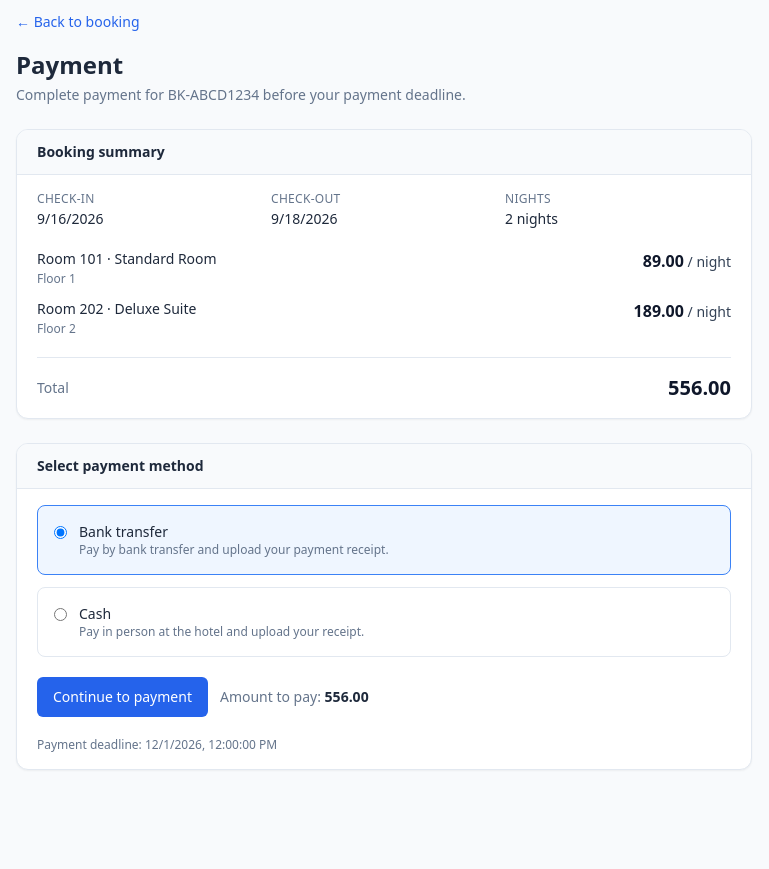
Scenario: PaymentCreate page › surfaces the server message when a payment already exists (409)
The width and height of the screenshot is (769, 869).
What coordinates should you click on to do the following:
click the button "Continue to payment"
I would click on:
 (122, 697)
Its box is top-left (37, 677), bottom-right (208, 717).
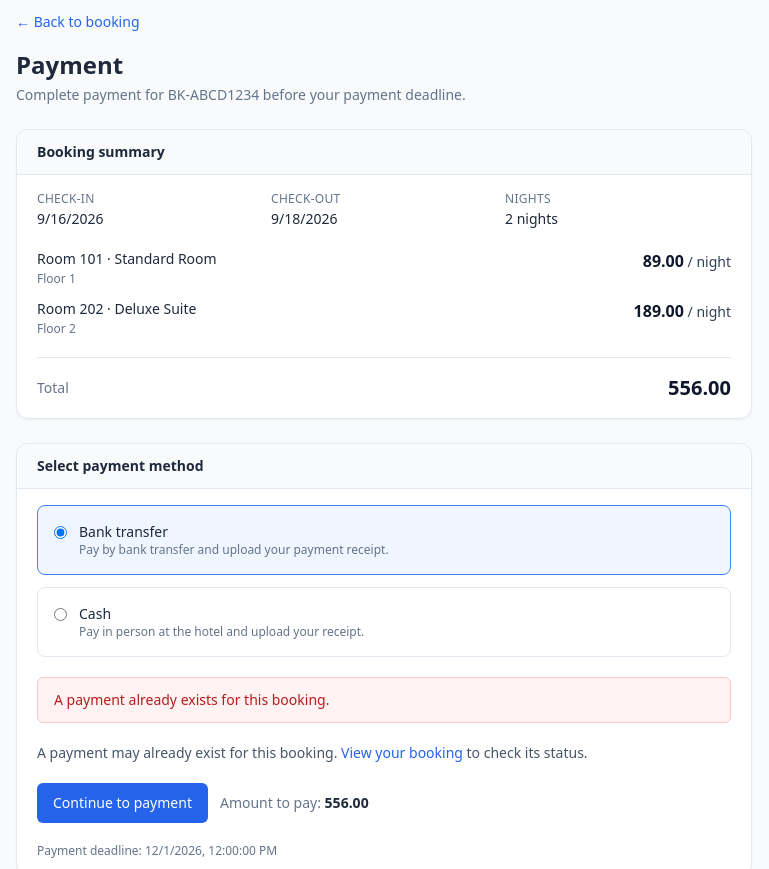
Check: the text "A payment already exists for this booking." is shown, box top-left (37, 677), bottom-right (731, 723)
